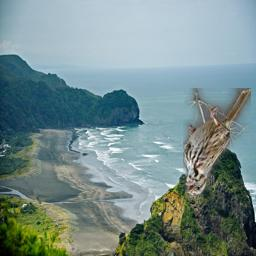Sparrow: (183, 88, 251, 196)
